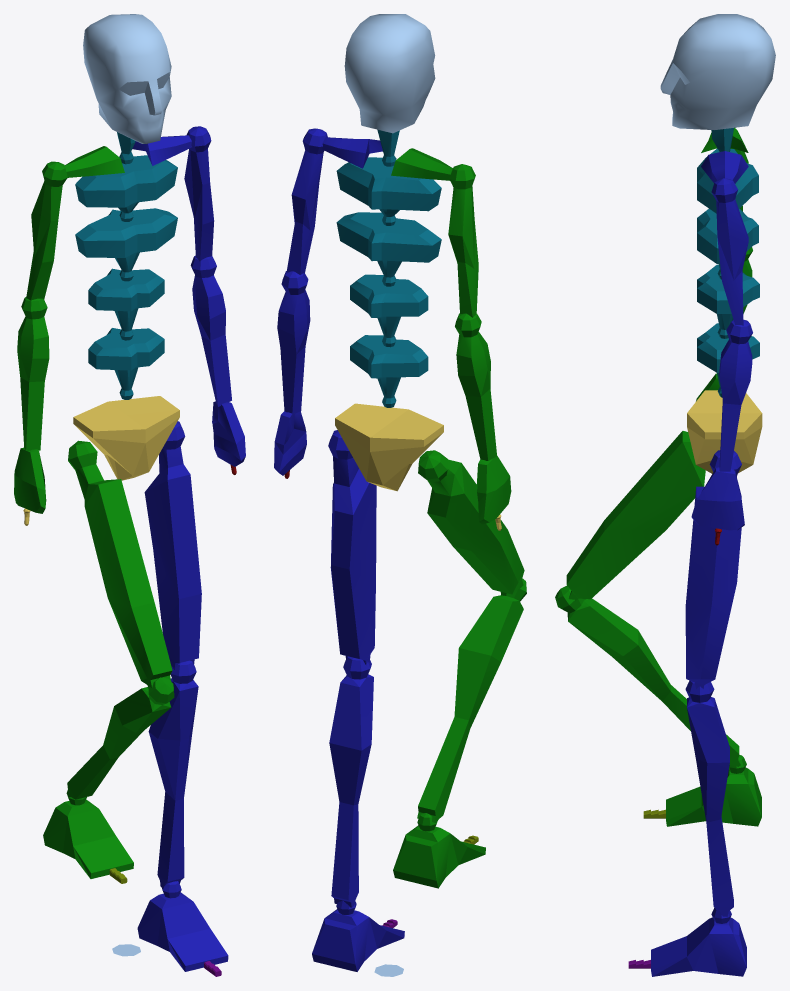
File: biped2.obj
The picture shows the model from 3 angles, left to right: view 1: azimuth 30°, elevation 25°; view 2: azimuth 150°, elevation 25°; view 3: azimuth 270°, elevation 25°; orthographic projection. The views are drawn at different scales.
Visible parts, largest first — view 1: Bip001_R_Thigh, Bip001_L_Thigh, Bip001_Head, Bip001_L_Calf, Bip001_Pelvis, Bip001_L_Foot, Bip001_R_Foot, Bip001_R_Calf, Bip001_Spine2, Bip001_Spine3, Bip001_R_Forearm, Bip001_L_Forearm (+8 smaller); view 2: Bip001_Head, Bip001_L_Thigh, Bip001_R_Calf, Bip001_L_Calf, Bip001_R_Thigh, Bip001_Pelvis, Bip001_Spine2, Bip001_Spine3, Bip001_R_Forearm, Bip001_R_Foot, Bip001_L_Foot, Bip001_L_Forearm (+8 smaller); view 3: Bip001_Head, Bip001_R_Thigh, Bip001_L_Thigh, Bip001_L_Calf, Bip001_R_Calf, Bip001_L_Foot, Bip001_Pelvis, Bip001_L_Forearm, Bip001_R_Foot, Bip001_L_UpperArm, Bip001_L_Hand, Bip001_Spine1 (+4 smaller).
Boxes of the visible parts, left/top/right/bottom form: Bip001_R_Thigh: left=68, top=440, right=172, bottom=687; Bip001_L_Thigh: left=144, top=421, right=201, bottom=670; Bip001_Head: left=83, top=14, right=171, bottom=143; Bip001_L_Calf: left=148, top=660, right=198, bottom=887; Bip001_Pelvis: left=73, top=396, right=179, bottom=480; Bip001_L_Foot: left=137, top=881, right=228, bottom=971; Bip001_R_Foot: left=43, top=796, right=133, bottom=878; Bip001_R_Calf: left=66, top=677, right=174, bottom=799; Bip001_Spine2: left=75, top=208, right=177, bottom=281; Bip001_Spine3: left=75, top=155, right=177, bottom=221; Bip001_R_Forearm: left=17, top=297, right=49, bottom=450; Bip001_L_Forearm: left=190, top=255, right=231, bottom=406; Bip001_Head: left=344, top=14, right=435, bottom=133; Bip001_L_Thigh: left=328, top=430, right=376, bottom=665; Bip001_R_Calf: left=417, top=578, right=526, bottom=822; Bip001_L_Calf: left=329, top=656, right=373, bottom=907; Bip001_R_Thigh: left=418, top=450, right=524, bottom=594; Bip001_Pelvis: left=335, top=403, right=443, bottom=491; Bip001_Spine2: left=336, top=212, right=441, bottom=286; Bip001_Spine3: left=336, top=157, right=441, bottom=225; Bip001_R_Forearm: left=455, top=313, right=496, bottom=460; Bip001_R_Foot: left=393, top=813, right=485, bottom=888; Bip001_L_Foot: left=312, top=901, right=404, bottom=971; Bip001_L_Forearm: left=277, top=271, right=310, bottom=414; Bip001_Head: left=660, top=14, right=775, bottom=129; Bip001_R_Thigh: left=566, top=431, right=705, bottom=601; Bip001_L_Thigh: left=685, top=450, right=741, bottom=689; Bip001_L_Calf: left=685, top=680, right=733, bottom=916; Bip001_R_Calf: left=555, top=585, right=740, bottom=766; Bip001_L_Foot: left=651, top=908, right=746, bottom=976; Bip001_Pelvis: left=687, top=390, right=762, bottom=473; Bip001_L_Forearm: left=719, top=319, right=752, bottom=471; Bip001_R_Foot: left=666, top=755, right=761, bottom=826; Bip001_L_UpperArm: left=711, top=178, right=748, bottom=325; Bip001_L_Hand: left=691, top=467, right=744, bottom=530; Bip001_Spine1: left=697, top=264, right=759, bottom=338.
Bounding box in the file's own units: 5.74 × 23.67 × 5.12.
